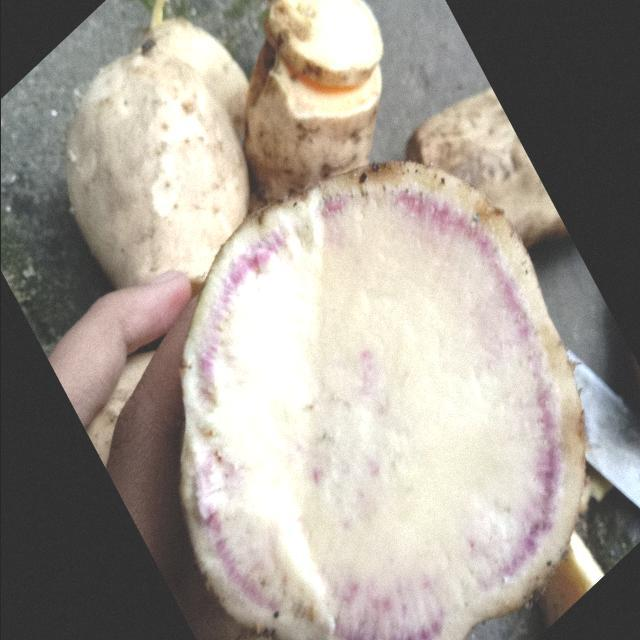Healthy Sweet Potato: (180, 162, 584, 638)
